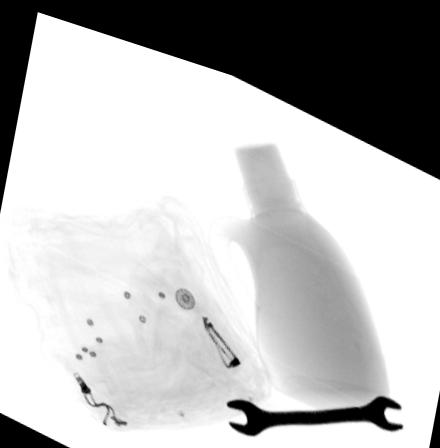Wrench: (224, 367, 404, 421)
